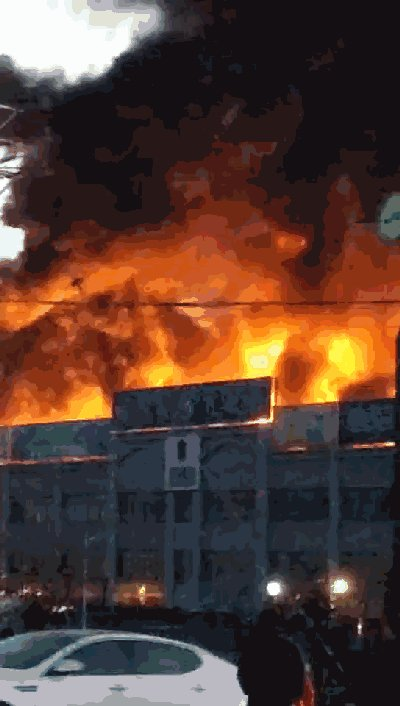fire: (1, 204, 400, 402)
smoke: (4, 15, 393, 190)
